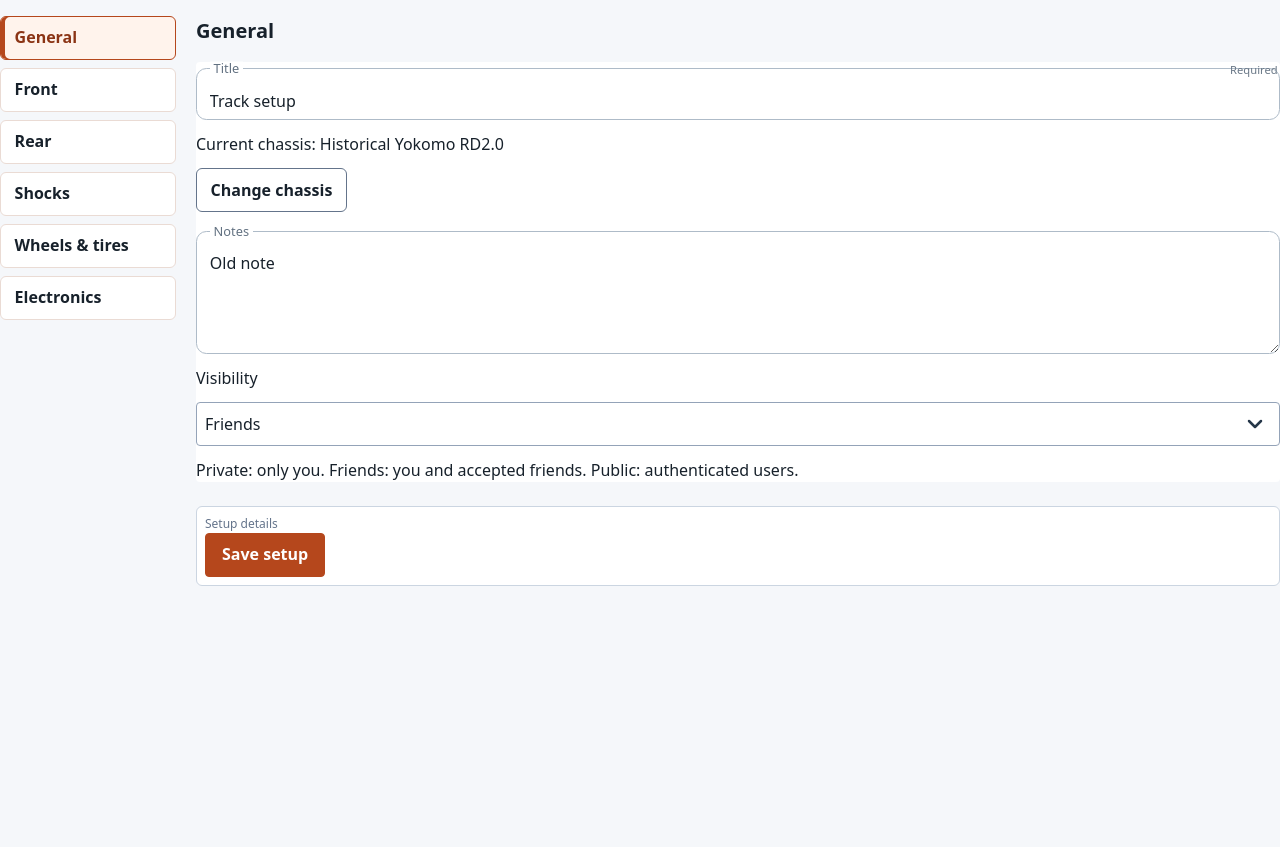
Scenario: starts uncommon front parts collapsed while keeping the main suspension fields visible
Click the button "Front" at [88, 90], box [0,68,176,112]
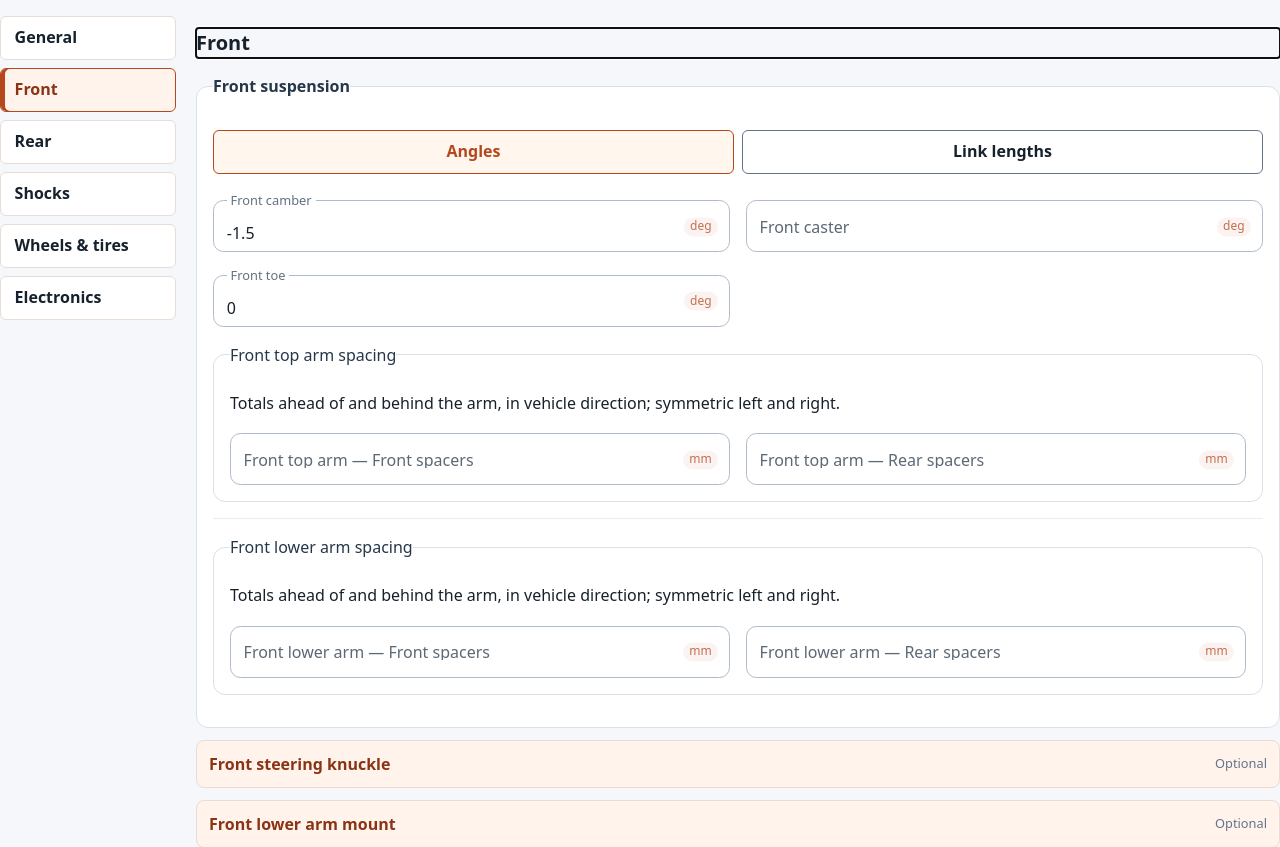
Expected: the field labelled "Front knuckle part number / description" is not shown
Expected: the field named "Front top arm — Front spacers (mm)" is shown, [230,433,730,485]
Expected: the field named "Front lower arm — Rear spacers (mm)" is shown, [746,626,1246,678]
Click the heading "Front steering knuckle Optional" at [300, 764], box [196,740,1279,788]
(page scrolled)
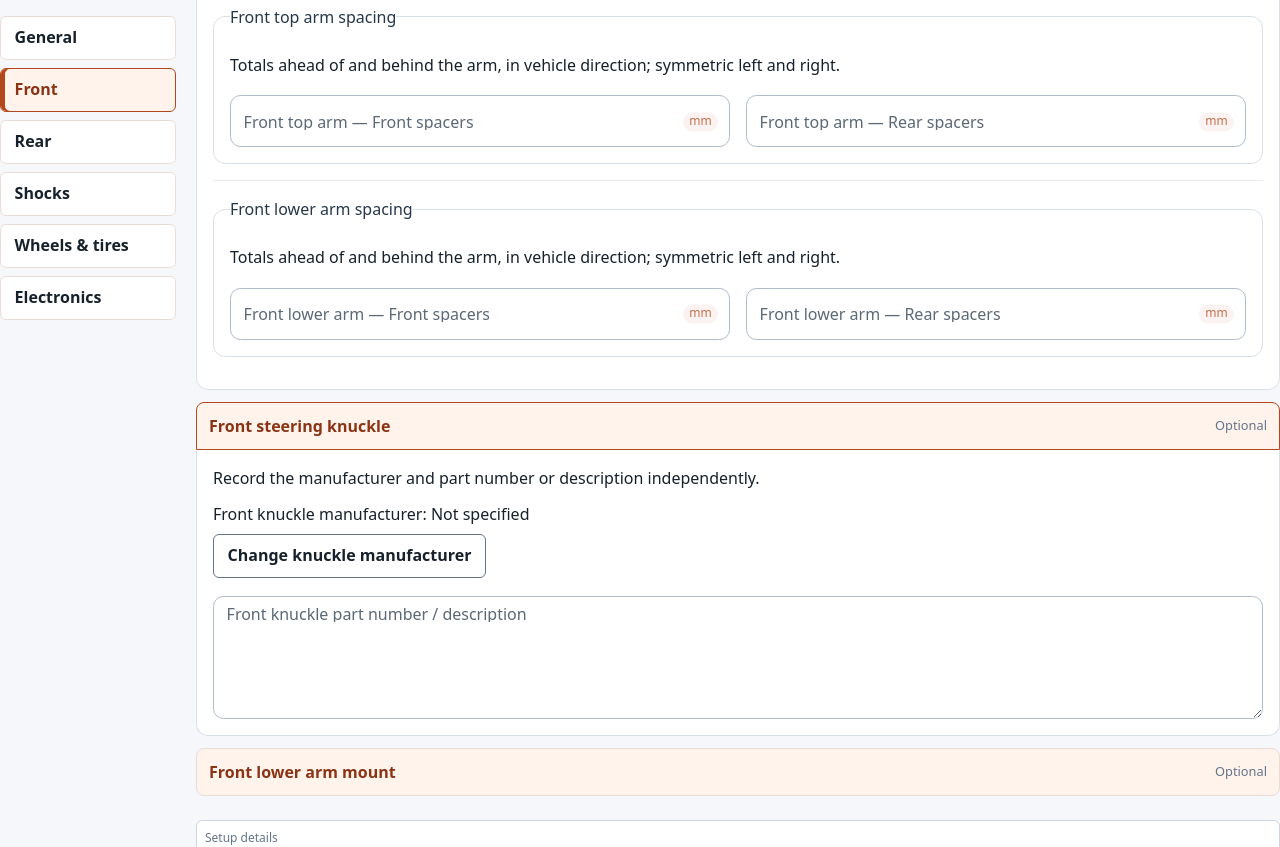
Expected: the text box labelled "Front knuckle part number / description" is shown, [213,596,1263,719]
Click the heading "Front lower arm mount Optional" at [302, 772], box [196,748,1279,796]
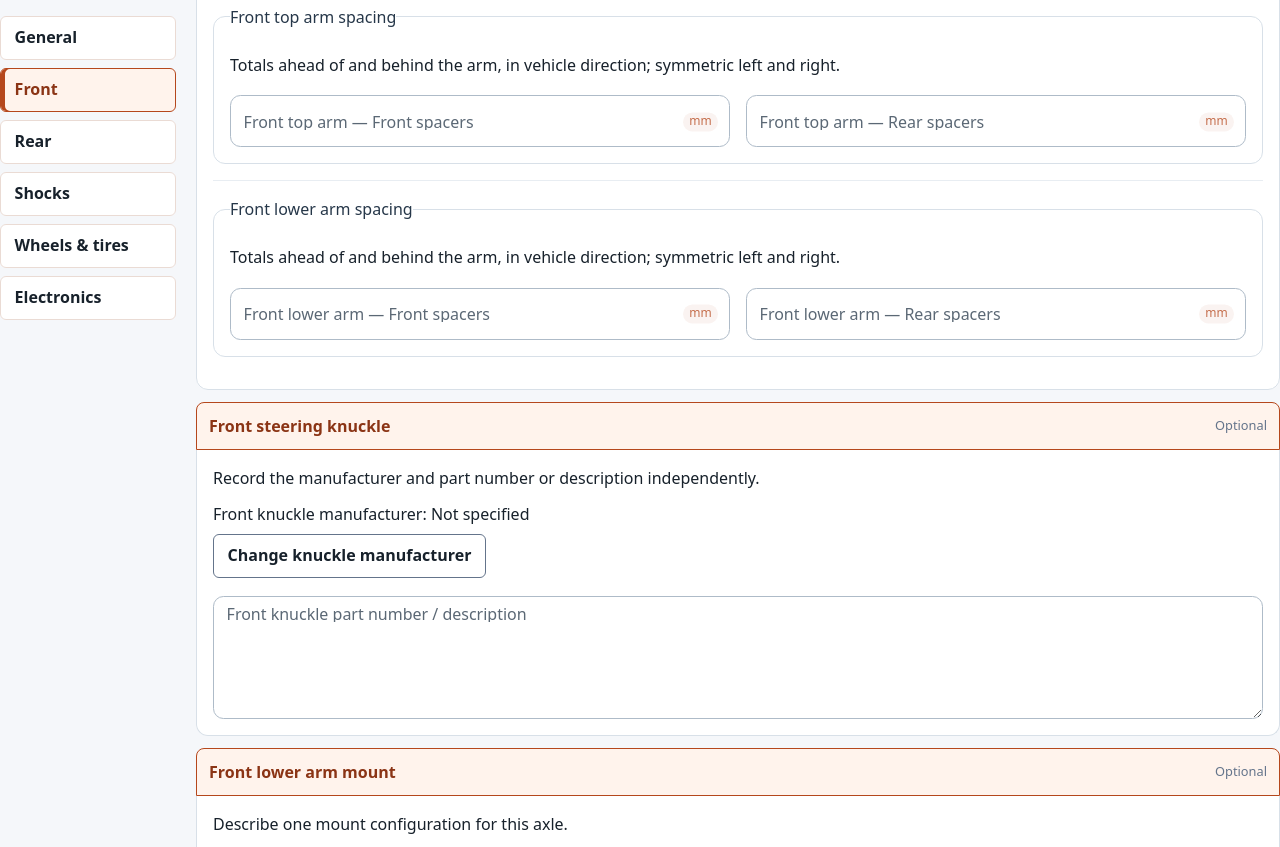
Click the button "Rear" at [88, 142], box [0,120,176,164]
(page scrolled)
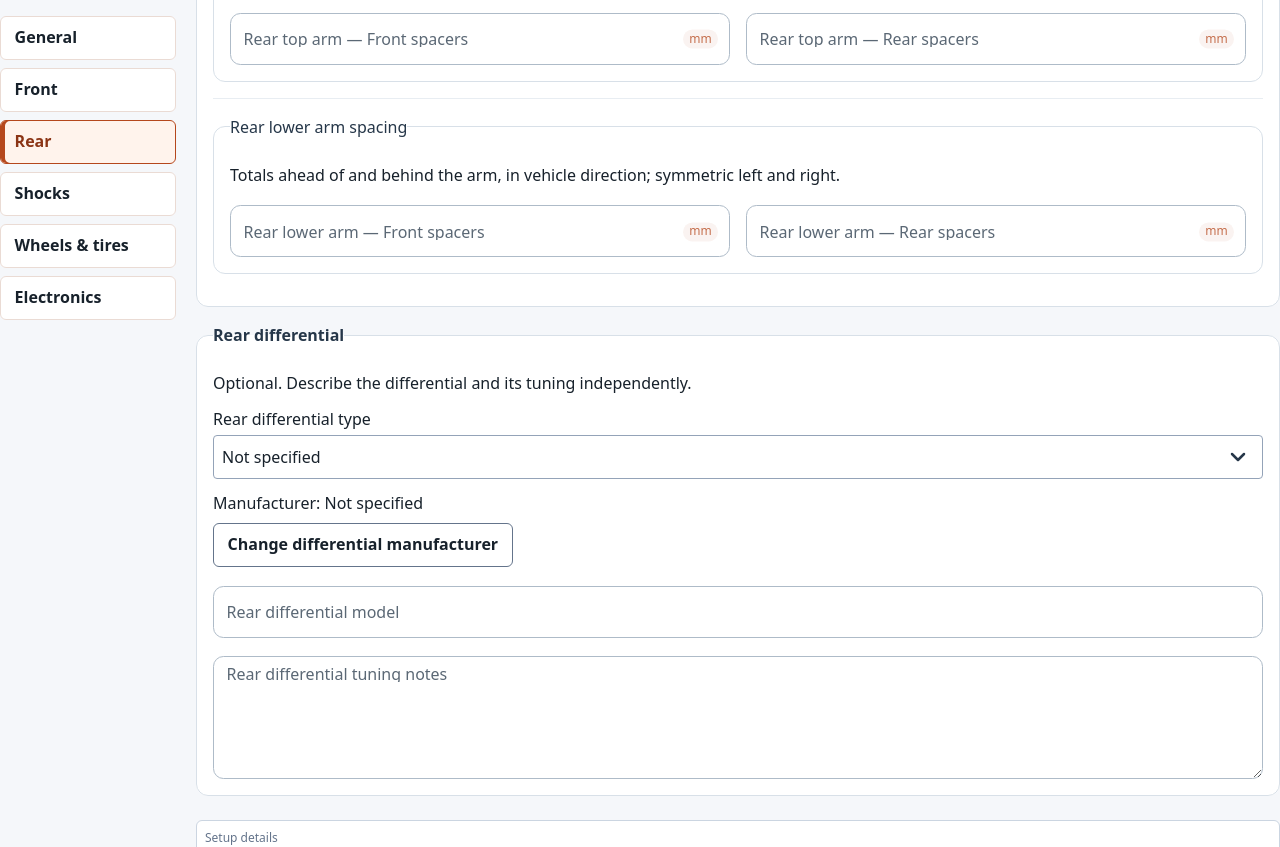
Expected: the field named "Rear top arm — Front spacers (mm)" is shown, [230,13,730,65]
Expected: the field named "Rear lower arm — Rear spacers (mm)" is shown, [746,205,1246,257]
Expected: the field labelled "Rear differential model" is shown, [213,586,1263,638]
